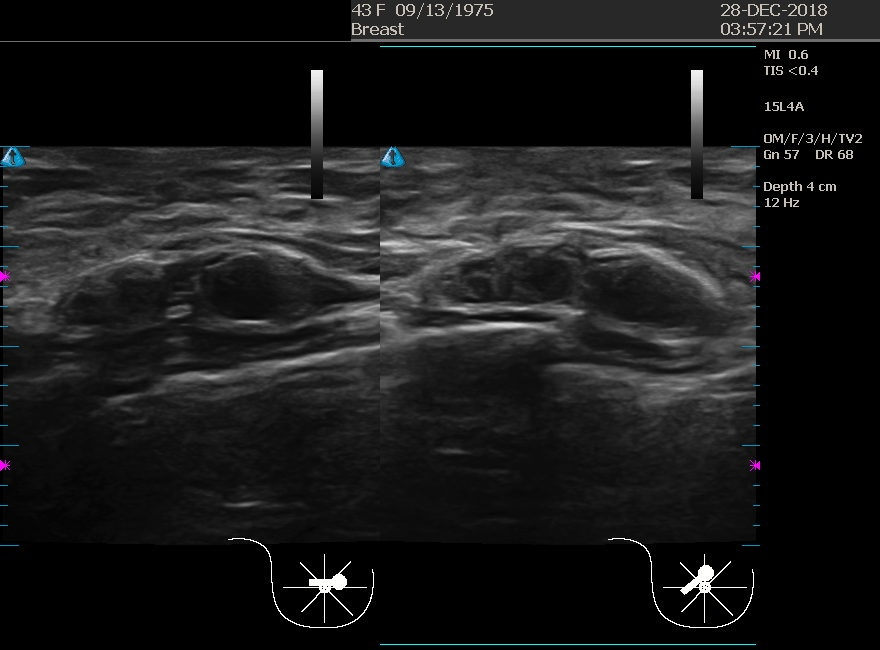BIRADS_4: (409, 223, 609, 423), (95, 231, 295, 431)
